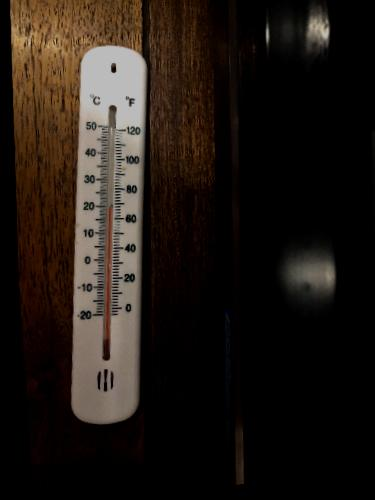thermo: (69, 44, 145, 420)
